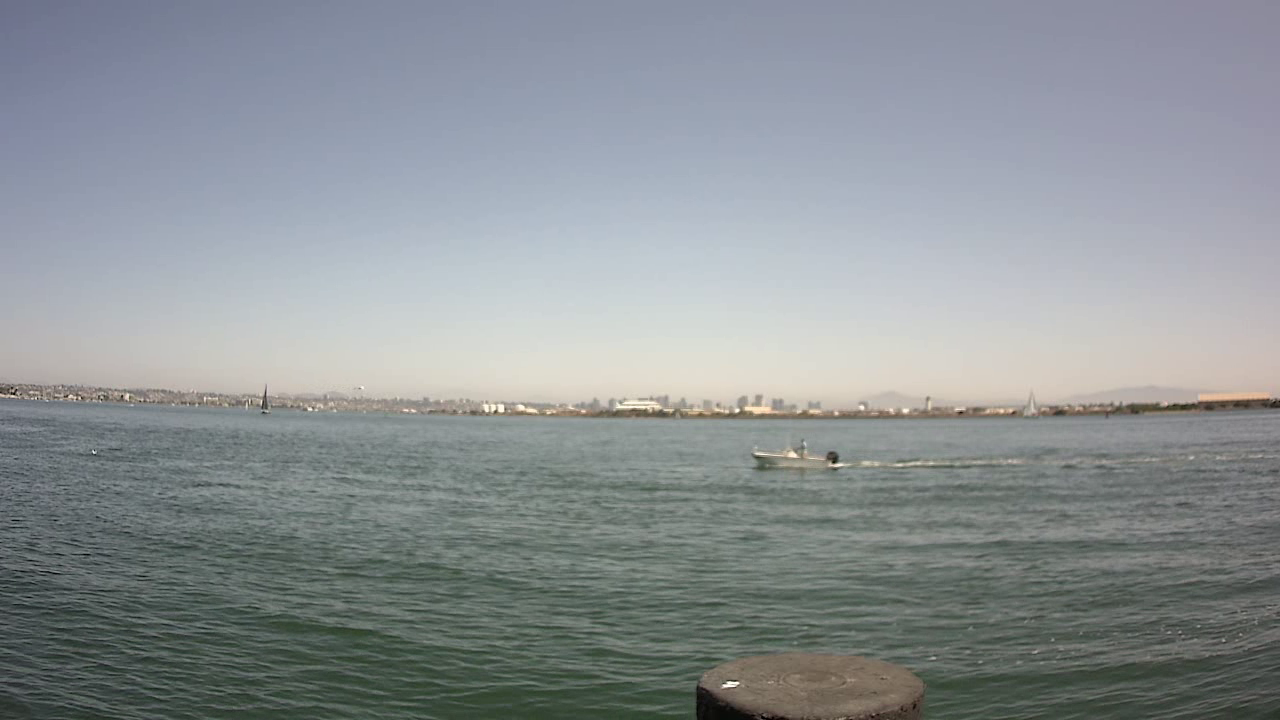target: (737, 416, 859, 485)
